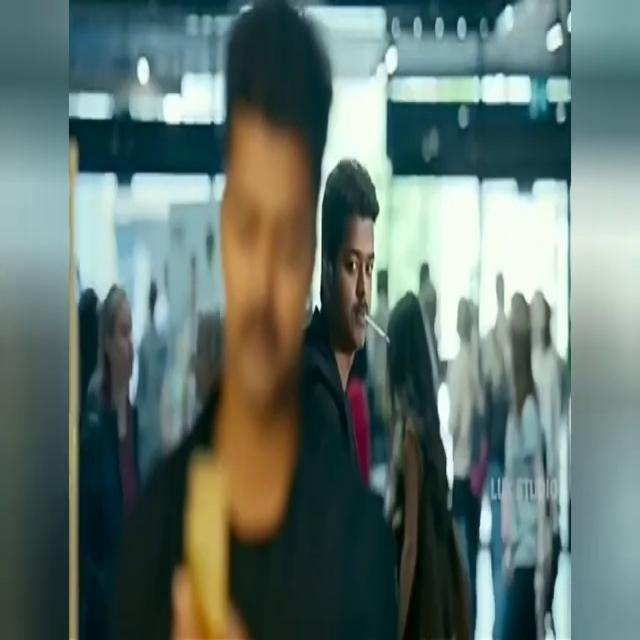smoking: (342, 311, 388, 324)
